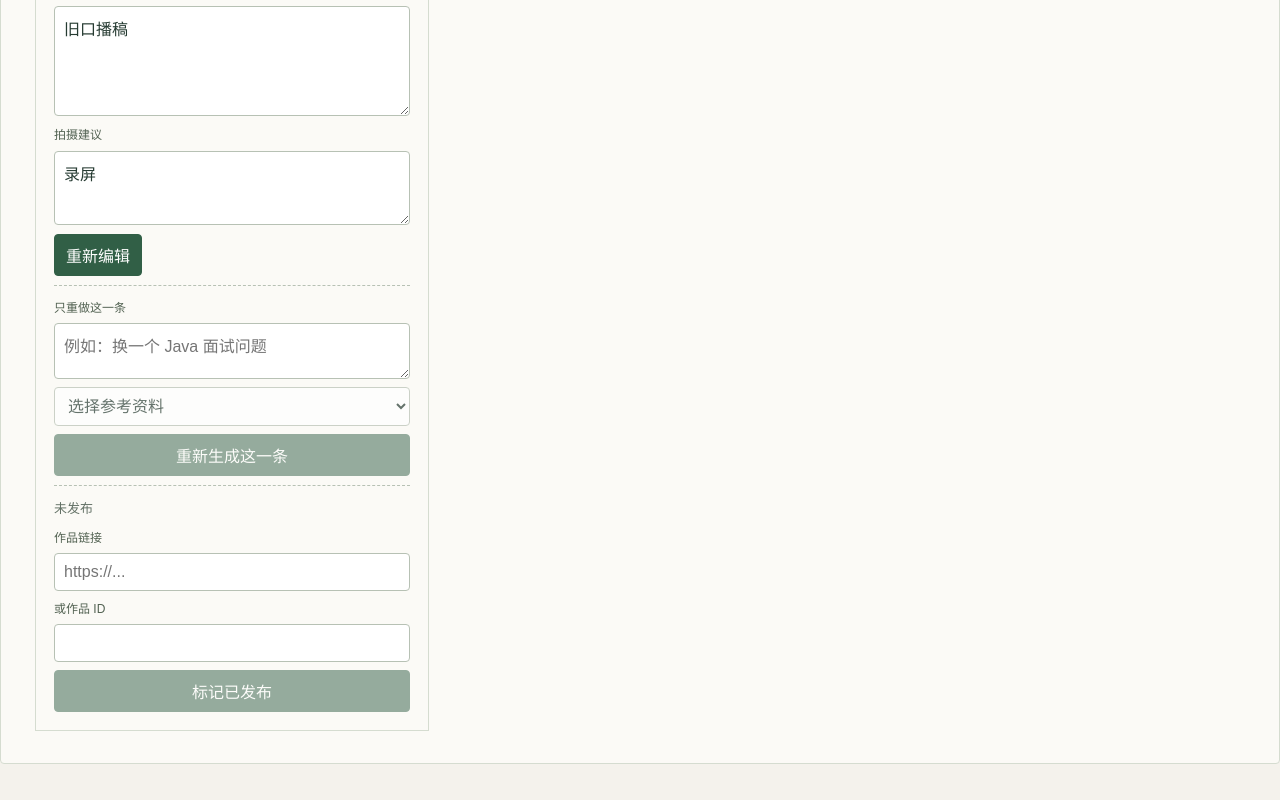
weekly schedule page › records a published work only after script confirmation
(page scrolled)
Type "https://www.douyin.com/video/123" into the field labelled "作品链接" at {"x": 232, "y": 572}, box [54,553,410,591]
(page scrolled)
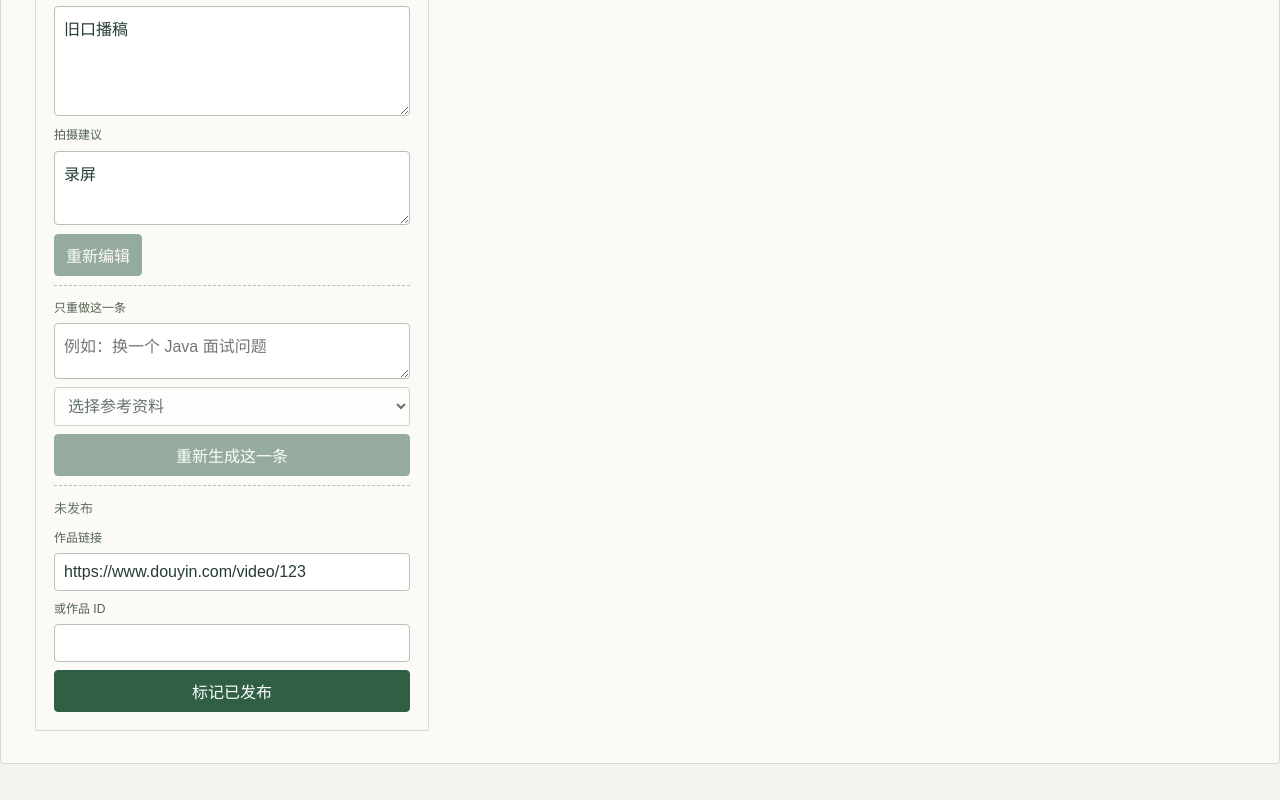
Click the button "标记已发布" at {"x": 232, "y": 691}, box [54,670,410,712]
(page scrolled)
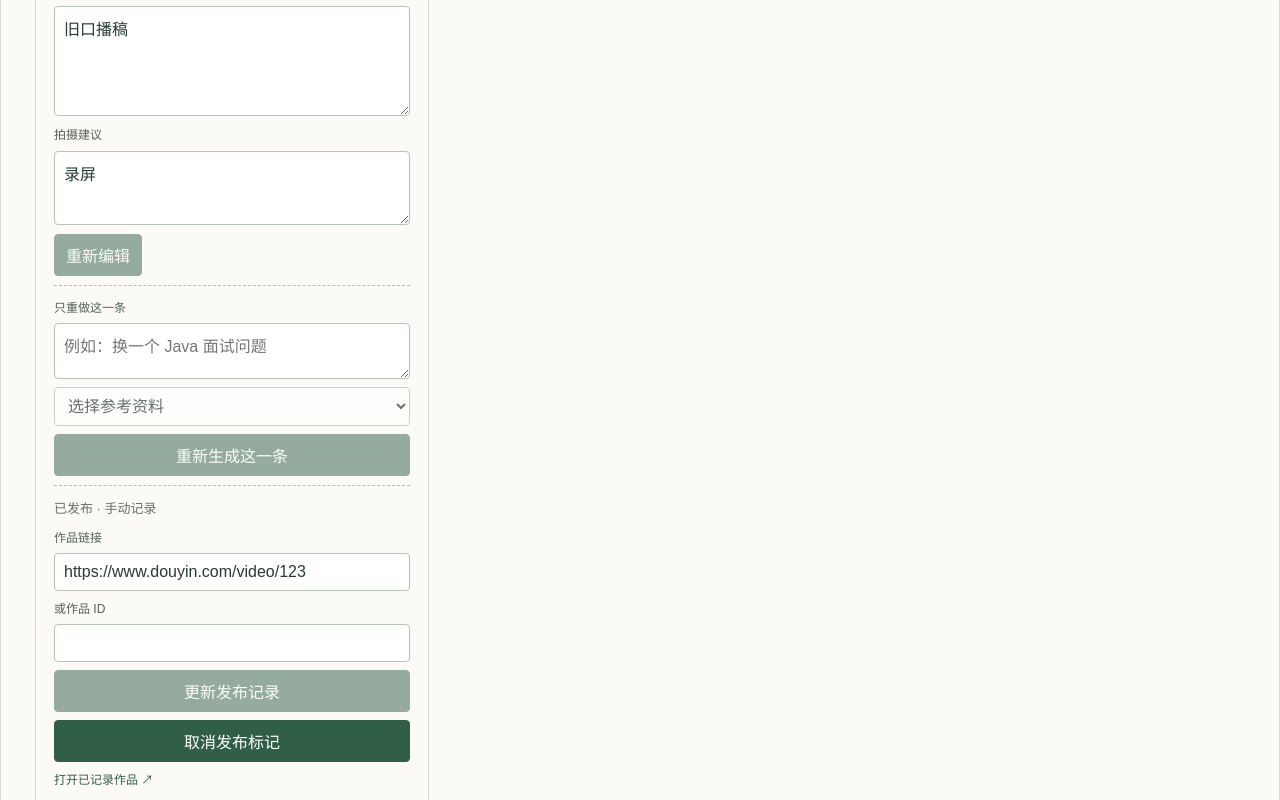
Check: the button "重新编辑" is disabled, box [54,234,142,276]
Check: the text "已发布 · 手动记录" is shown, box [54,501,157,516]
